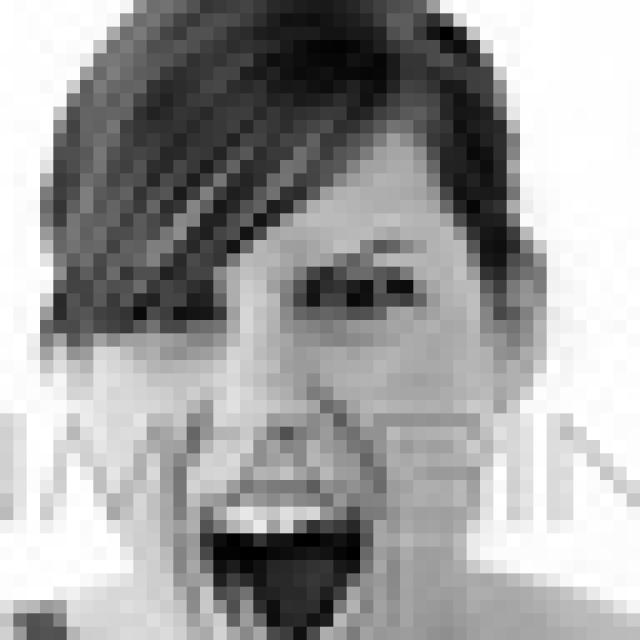angry: (108, 221, 440, 640)
